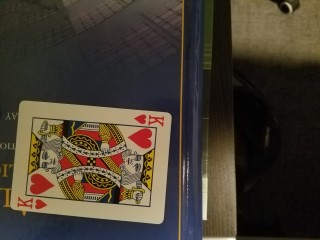KingOfHearts: (10, 99, 172, 225)
